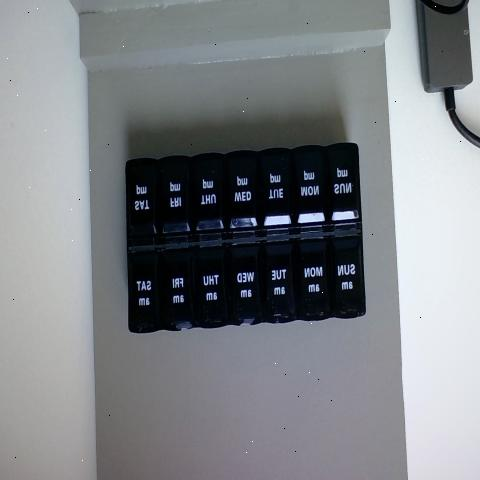FRI-am: (160, 246, 190, 328)
FRI-pm: (159, 160, 190, 244)
MON-am: (296, 238, 325, 323)
MON-pm: (292, 151, 326, 230)
PillBox: (107, 108, 377, 372)
SAT-am: (128, 244, 160, 331)
SAT-pm: (128, 161, 158, 241)
SUN-am: (330, 232, 362, 316)
SUN-pm: (329, 146, 357, 225)
THU-am: (191, 241, 224, 326)
THU-pm: (193, 158, 224, 241)
TUE-am: (261, 237, 292, 322)
TUE-pm: (262, 149, 290, 229)
WED-am: (227, 243, 260, 324)
WED-pm: (227, 151, 262, 236)
